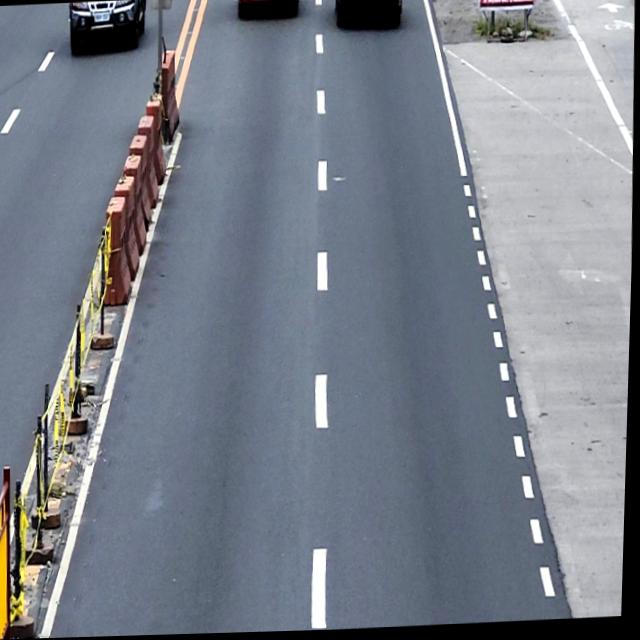Car: (67, 0, 146, 54), (236, 0, 298, 20)
License-Plate: (92, 10, 110, 24)
